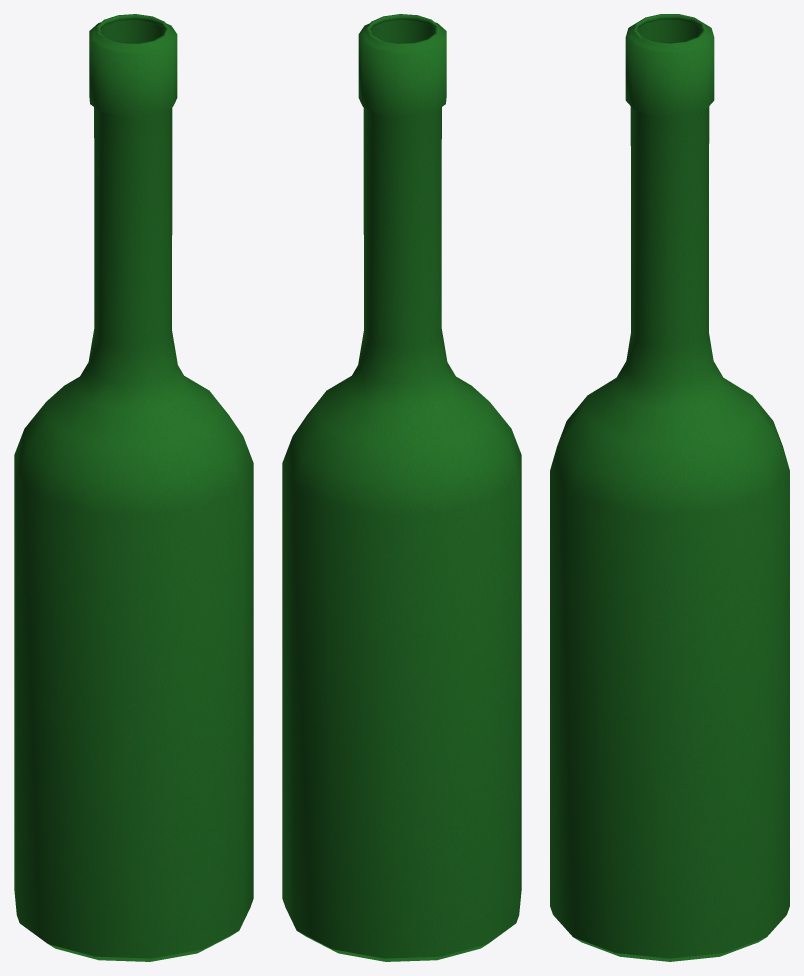
The model's file is bottle.FBX.
3 views of the same model, side by side, from view 1: azimuth 30°, elevation 25°; view 2: azimuth 150°, elevation 25°; view 3: azimuth 270°, elevation 25° (orthographic).
Visible parts, largest first — view 1: Cylinder001; view 2: Cylinder001; view 3: Cylinder001.
Boxes of the visible parts, <box> form: Cylinder001: <box>14,14,253,961</box>; Cylinder001: <box>282,14,521,961</box>; Cylinder001: <box>550,14,789,961</box>.
Size of the model in its own units: 309 by 1271 by 311.
1 material, 1 textured.
